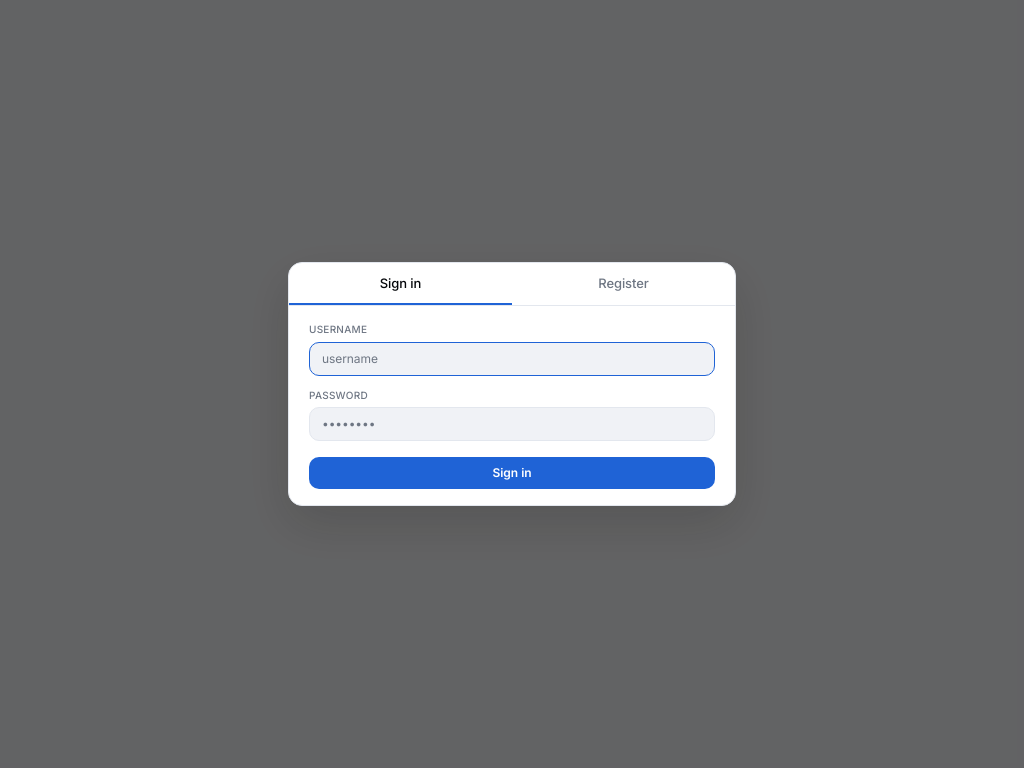
Scenario: AuthModal › shows the server error inline on a register validation failure
Click the button "Register".
click(624, 284)  # box [512,263,735,305]
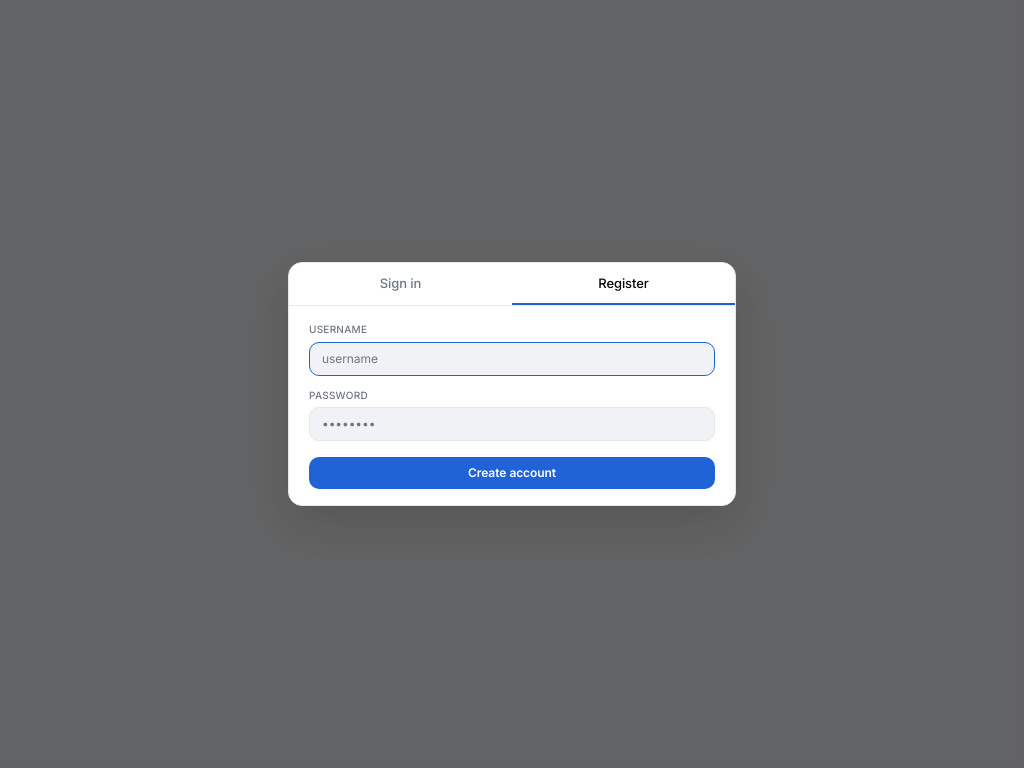
Type "bob" into the field with placeholder "Username".
click(512, 359); type("bob")  # box [309,342,715,376]
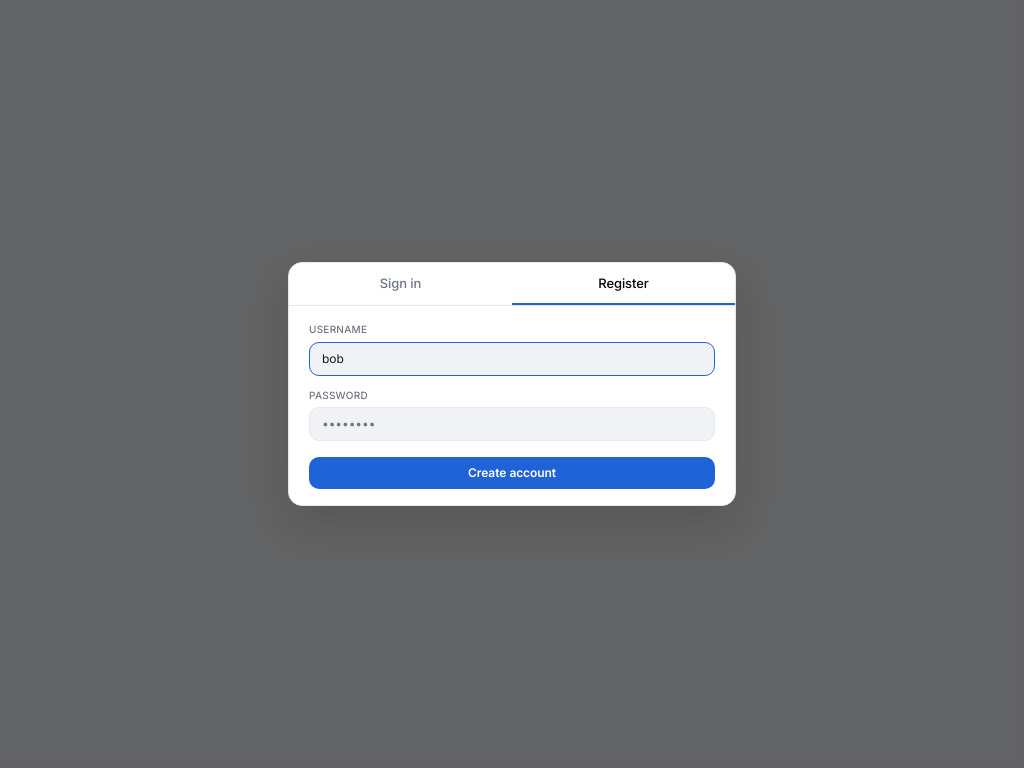
Type "short" into the password field with placeholder "••••••••".
click(512, 424); type("short")  # box [309,407,715,441]
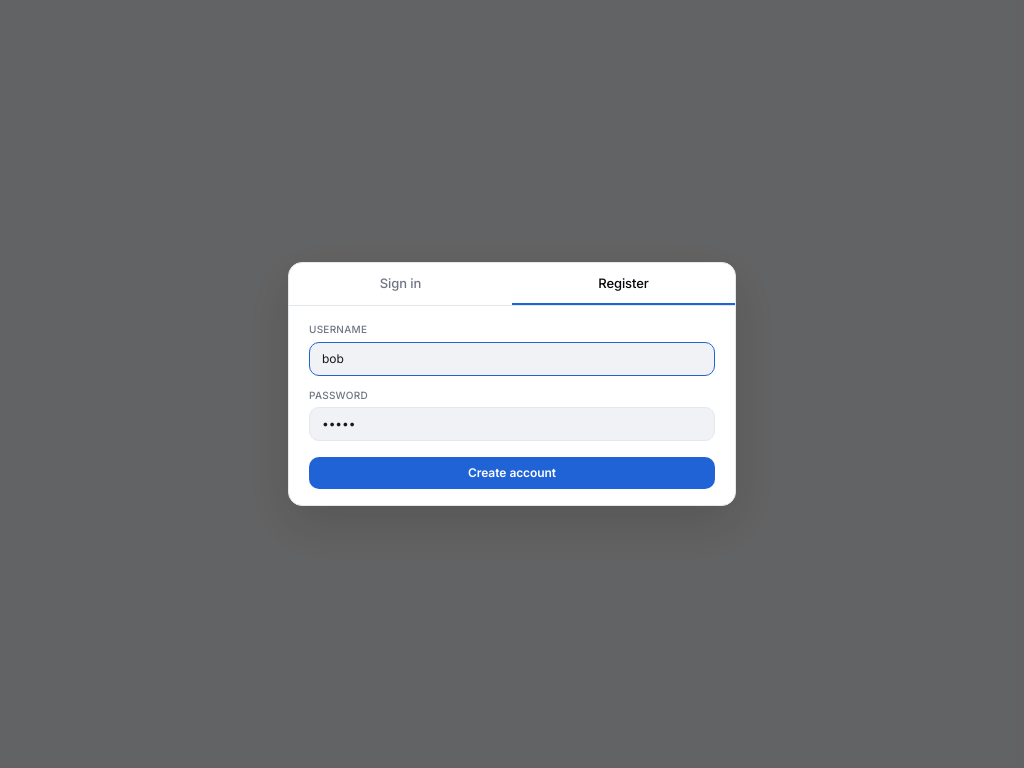
Click the submit button.
click(512, 473)  # box [309,457,715,489]
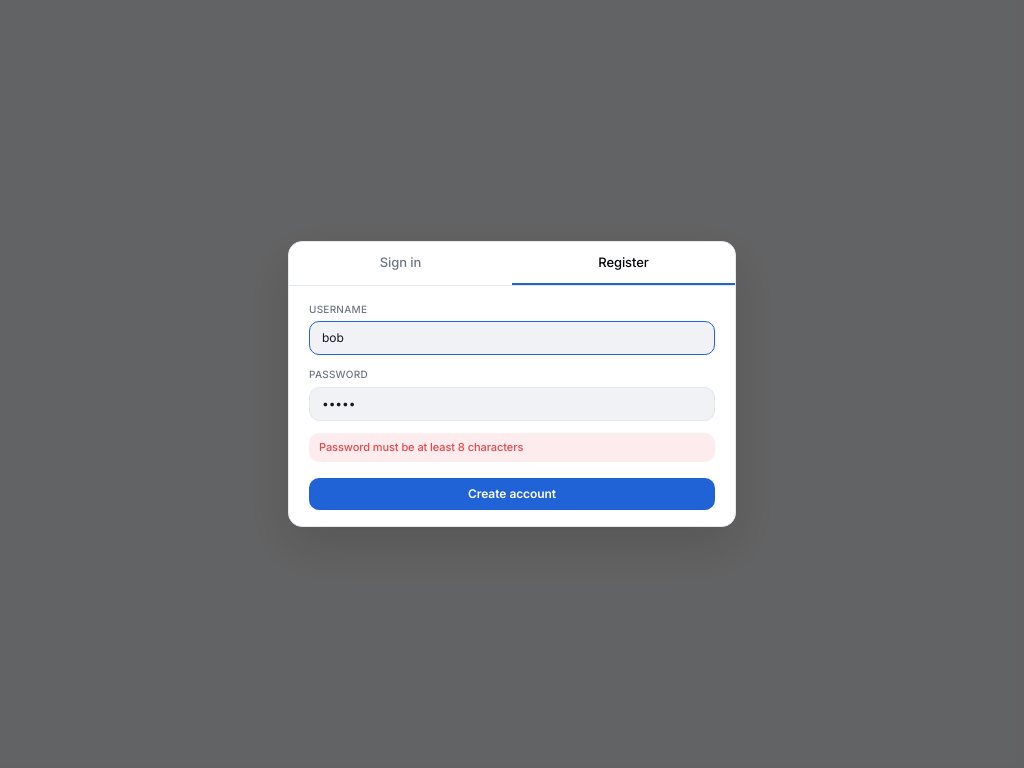
expect the text "Password must be at least 8 characters" is shown: met, box [309,432,715,462]
